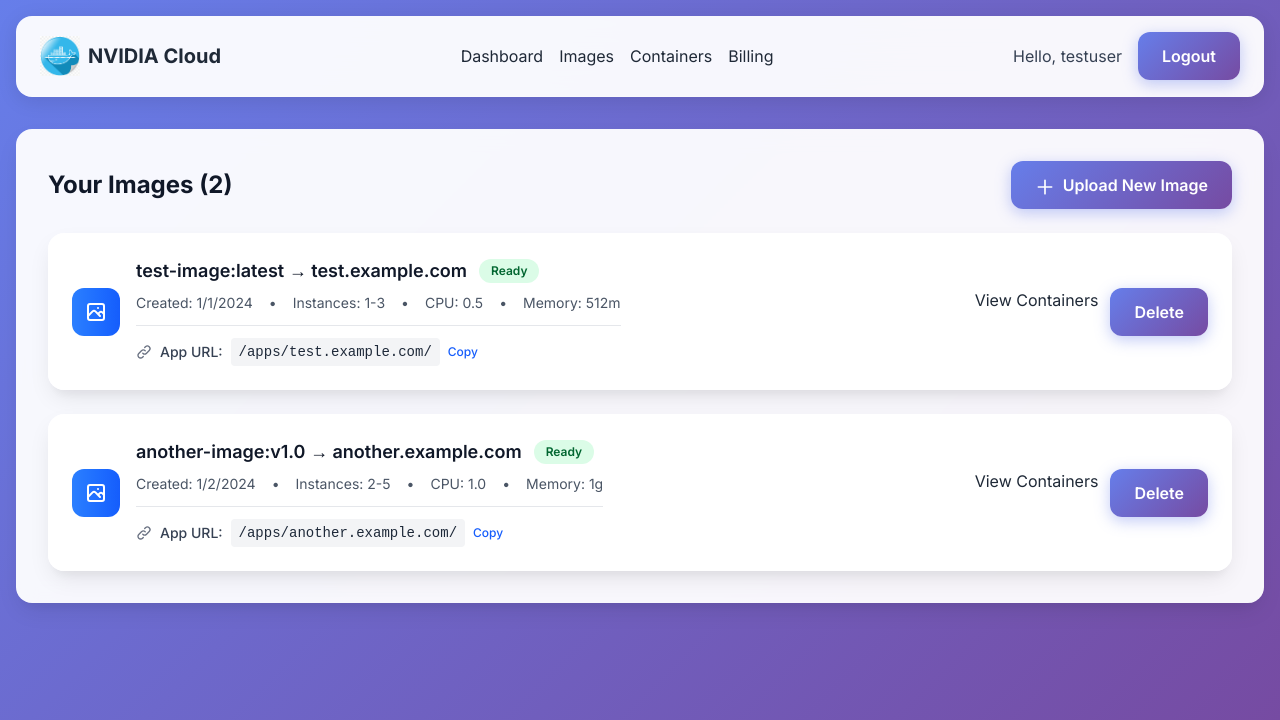
Scenario: ImagesPage › Upload Form › should open upload form when "Upload New Image" button is clicked
Check: the heading "Your Images (2)" is shown, box [48,169,232,201]
Step 1. Click the button "Upload New Image" → (1121, 185), box [1011,161,1232,209]
(page scrolled)
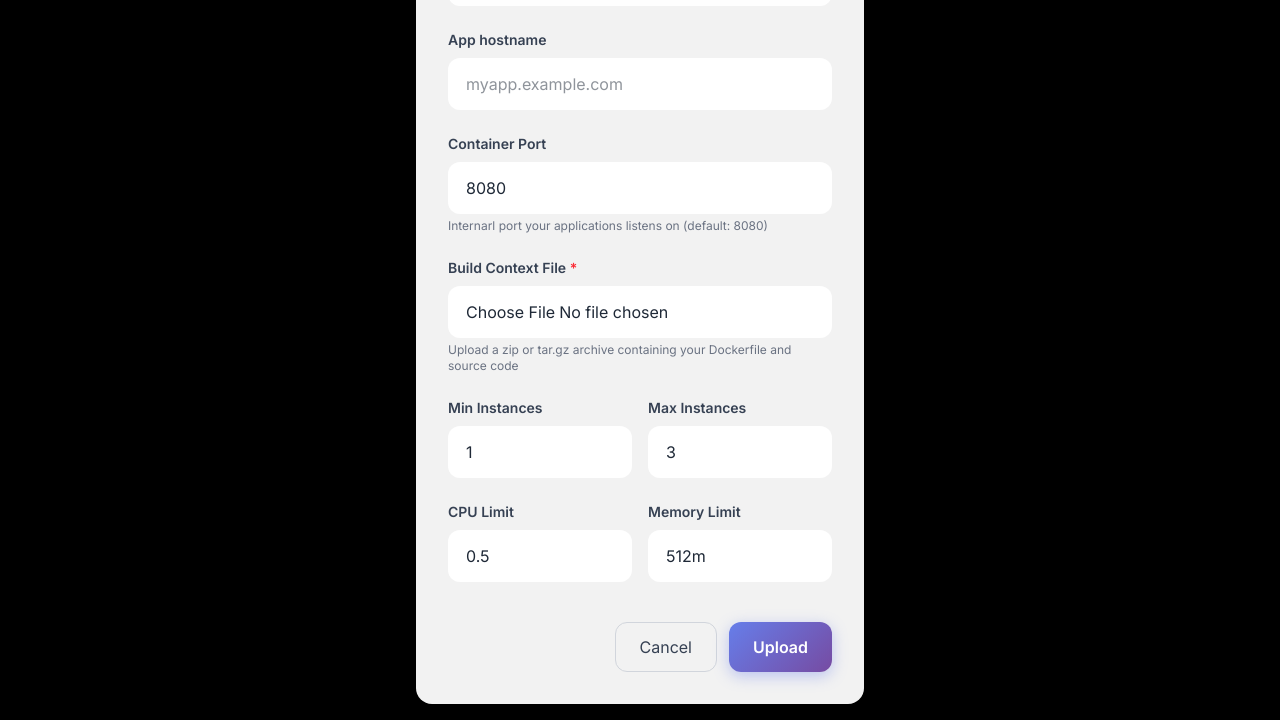
Check: the field labelled "App hostname" is shown, box [448,58,832,110]
Check: the button "Upload" is shown, box [729,622,832,672]
